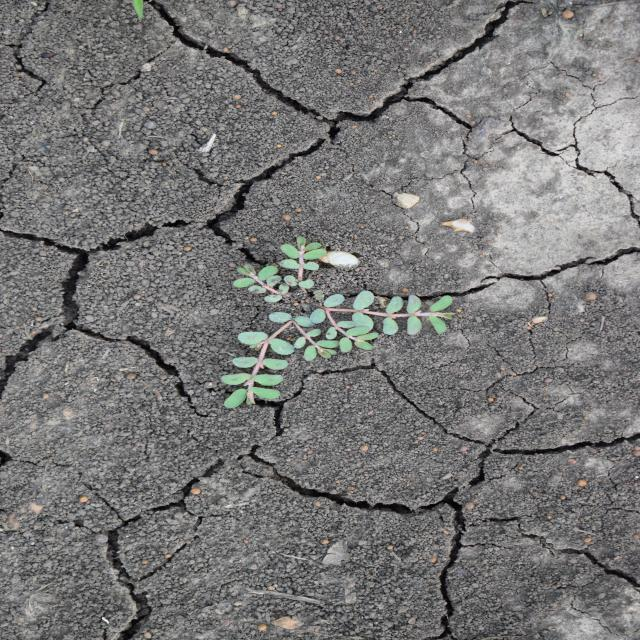SpottedSpurge: (218, 234, 460, 410)
